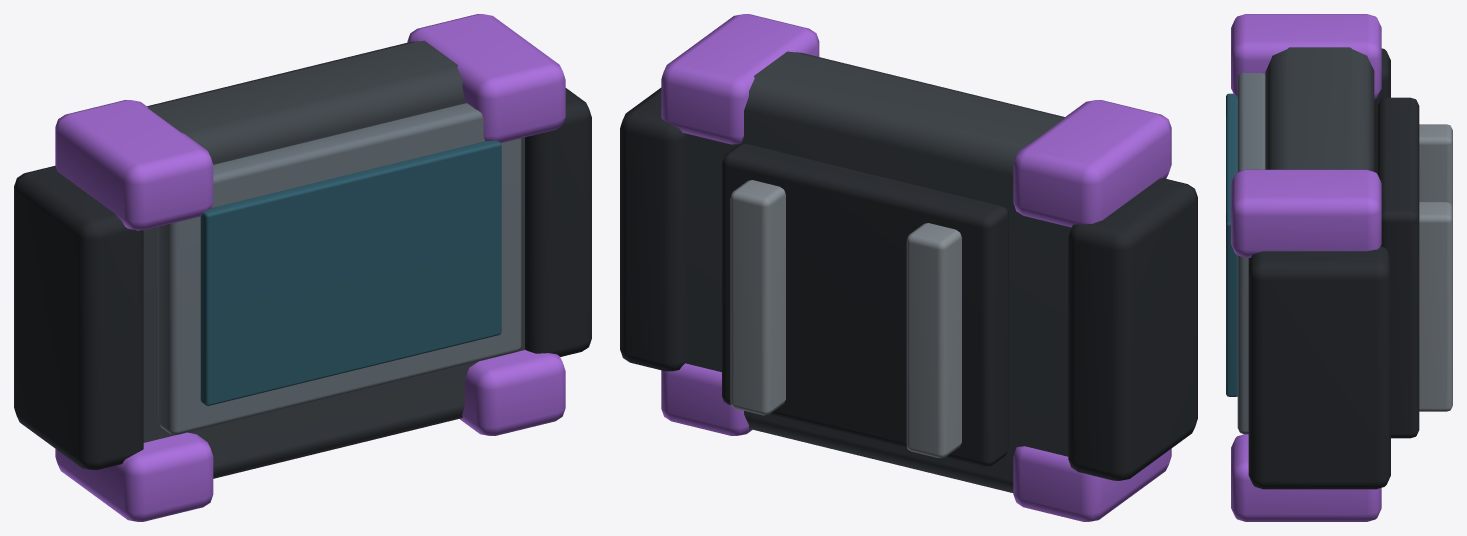
The picture shows the model from 3 angles, left to right: view 1: azimuth 30°, elevation 25°; view 2: azimuth 150°, elevation 25°; view 3: azimuth 270°, elevation 25°; orthographic projection. The views are drawn at different scales.
Visible parts, largest first — view 1: T03__Inactive_screen, T03__Rugged_terminal, T03__Side_grip, T03__Screen_frame, T03__Side_grip.001, T03__Corner_bumper.001, T03__Corner_bumper.003, T03__Corner_bumper, T03__Corner_bumper.002; view 2: T03__Rugged_terminal, T03__Mounting_pad, T03__Side_grip, T03__Side_grip.001, T03__Corner_bumper.001, T03__Attachment_rail, T03__Attachment_rail.001, T03__Corner_bumper.003, T03__Corner_bumper, T03__Corner_bumper.002; view 3: T03__Side_grip.001, T03__Rugged_terminal, T03__Corner_bumper.003, T03__Mounting_pad, T03__Attachment_rail.001, T03__Corner_bumper.001, T03__Corner_bumper.002, T03__Screen_frame, T03__Inactive_screen, T03__Attachment_rail, T03__Side_grip.
Part boxes in pixels (<box>): T03__Inactive_screen: <box>200,140,501,405</box>; T03__Rugged_terminal: <box>143,40,525,478</box>; T03__Side_grip: <box>14,166,143,469</box>; T03__Screen_frame: <box>158,103,521,434</box>; T03__Side_grip.001: <box>525,88,591,356</box>; T03__Corner_bumper.001: <box>55,100,213,230</box>; T03__Corner_bumper.003: <box>407,14,565,142</box>; T03__Corner_bumper: <box>55,432,213,521</box>; T03__Corner_bumper.002: <box>459,350,565,435</box>; T03__Rugged_terminal: <box>685,51,1071,492</box>; T03__Mounting_pad: <box>722,143,1008,466</box>; T03__Side_grip: <box>1068,178,1197,480</box>; T03__Side_grip.001: <box>620,88,686,371</box>; T03__Corner_bumper.001: <box>1013,100,1171,227</box>; T03__Attachment_rail: <box>906,223,961,458</box>; T03__Attachment_rail.001: <box>730,180,785,415</box>; T03__Corner_bumper.003: <box>661,14,819,144</box>; T03__Corner_bumper: <box>1013,446,1171,521</box>; T03__Corner_bumper.002: <box>661,363,752,435</box>; T03__Side_grip.001: <box>1248,246,1390,489</box>; T03__Rugged_terminal: <box>1265,47,1374,171</box>; T03__Corner_bumper.003: <box>1231,169,1381,257</box>; T03__Mounting_pad: <box>1377,97,1419,438</box>; T03__Attachment_rail.001: <box>1419,202,1452,411</box>; T03__Corner_bumper.001: <box>1231,14,1381,99</box>; T03__Corner_bumper.002: <box>1231,434,1381,521</box>; T03__Screen_frame: <box>1237,72,1265,434</box>; T03__Inactive_screen: <box>1226,93,1237,396</box>; T03__Attachment_rail: <box>1419,124,1452,207</box>; T03__Side_grip: <box>1374,48,1390,173</box>.
Bounding box in the file's own units: 0.32 × 0.214 × 0.1355.
